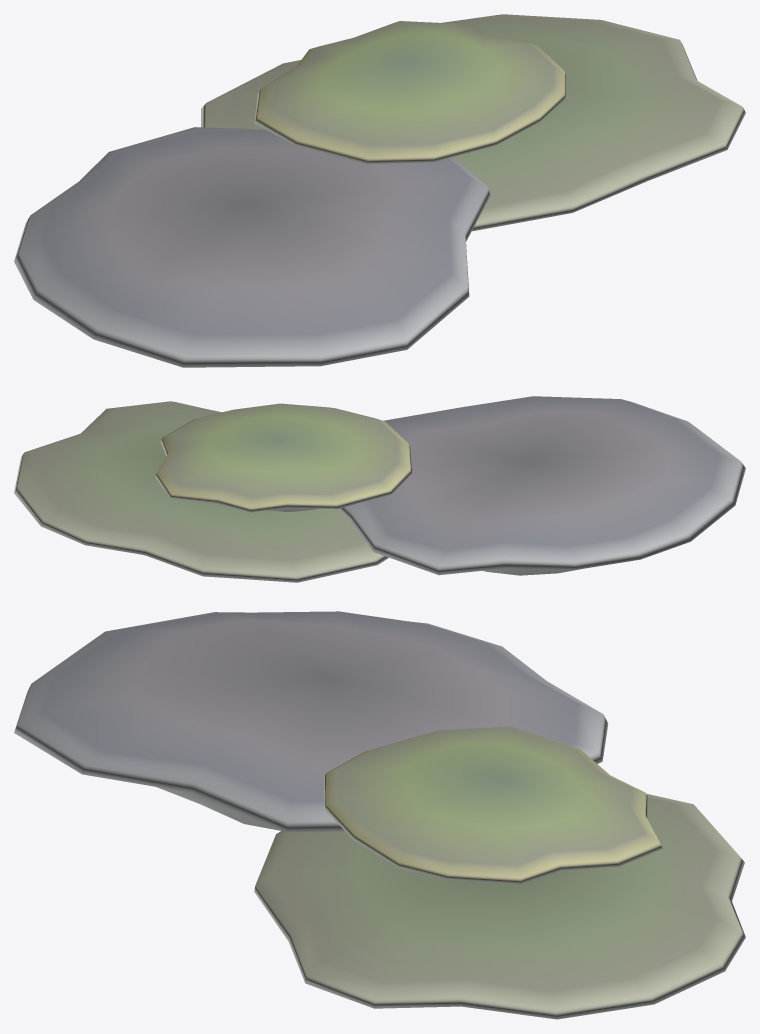
3 renders of one model, top to bottom at view 1: azimuth 30°, elevation 25°; view 2: azimuth 150°, elevation 25°; view 3: azimuth 270°, elevation 25°, orthographic. The views are drawn at different scales.
Parts seen in each view (by area): view 1: G:\FFXIV-MapTools\exports\e3f1\bg\ex2\02_est_e3\fld\e3f1\bgp (×2); view 2: G:\FFXIV-MapTools\exports\e3f1\bg\ex2\02_est_e3\fld\e3f1\bgp (×3); view 3: G:\FFXIV-MapTools\exports\e3f1\bg\ex2\02_est_e3\fld\e3f1\bgp (×2).
Boxes of the visible parts, box(x1,y1,x2,y2) form: G:\FFXIV-MapTools\exports\e3f1\bg\ex2\02_est_e3\fld\e3f1\bgp (×2): box(14, 14, 745, 367); G:\FFXIV-MapTools\exports\e3f1\bg\ex2\02_est_e3\fld\e3f1\bgp (×3): box(14, 396, 745, 582); G:\FFXIV-MapTools\exports\e3f1\bg\ex2\02_est_e3\fld\e3f1\bgp (×2): box(14, 611, 745, 1019).
Size of the model in its own units: 28.82 by 4.66 by 22.52.
